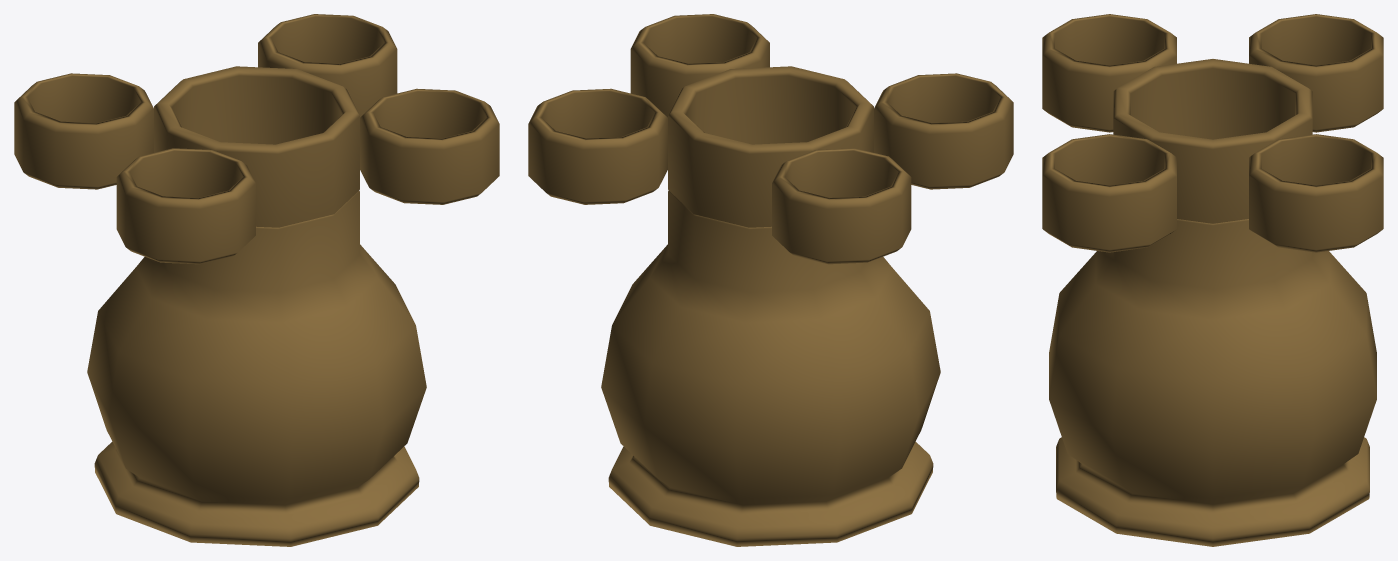
File: tuho_vase.fbx
3 renders of one model, left to right at view 1: azimuth 30°, elevation 25°; view 2: azimuth 150°, elevation 25°; view 3: azimuth 270°, elevation 25°, orthographic.
Parts seen in each view (by area): view 1: tuho_vase; view 2: tuho_vase; view 3: tuho_vase.
Part boxes in pixels (bbox=[...]): tuho_vase: bbox=[14, 14, 499, 546]; tuho_vase: bbox=[528, 14, 1013, 546]; tuho_vase: bbox=[1042, 14, 1383, 546].
Size of the model in its own units: 6.65 by 6.48 by 5.33.
